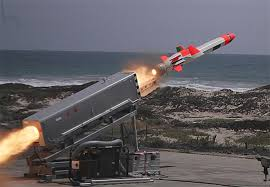ten_lua: (156, 28, 237, 71)
